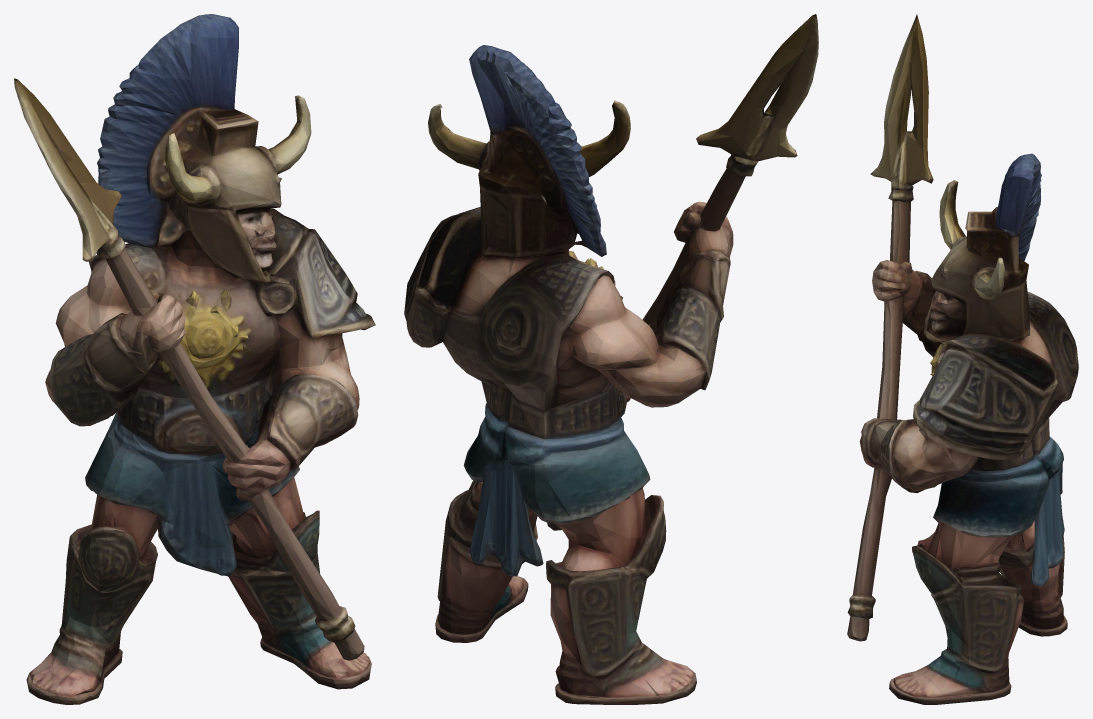
The model's file is spearTwinB.glb.
3 views of the same model, side by side, from view 1: azimuth 30°, elevation 25°; view 2: azimuth 150°, elevation 25°; view 3: azimuth 270°, elevation 25° (orthographic). The views are drawn at different scales.
Visible parts, largest first — view 1: world; view 2: world; view 3: world.
Boxes of the visible parts, left/top/right/bottom form: world: left=14, top=14, right=375, bottom=704; world: left=404, top=14, right=818, bottom=704; world: left=847, top=14, right=1078, bottom=704.
Size of the model in its own units: 0.5852 by 1 by 0.3818.
Materials: 1 (1 with a texture image).
